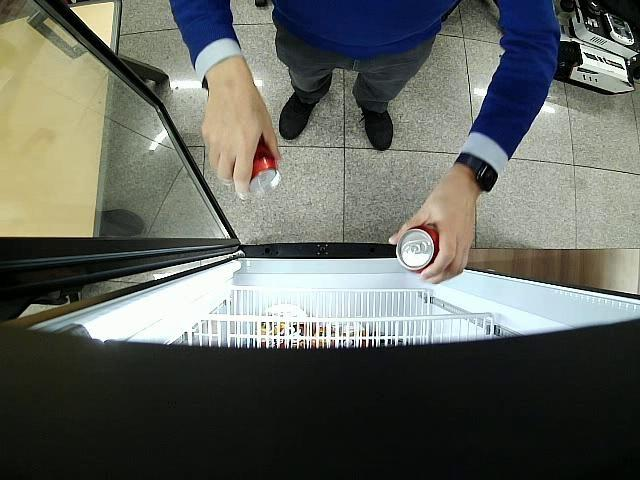11_cocaColaZero: (396, 226, 439, 274), (250, 141, 282, 196)
